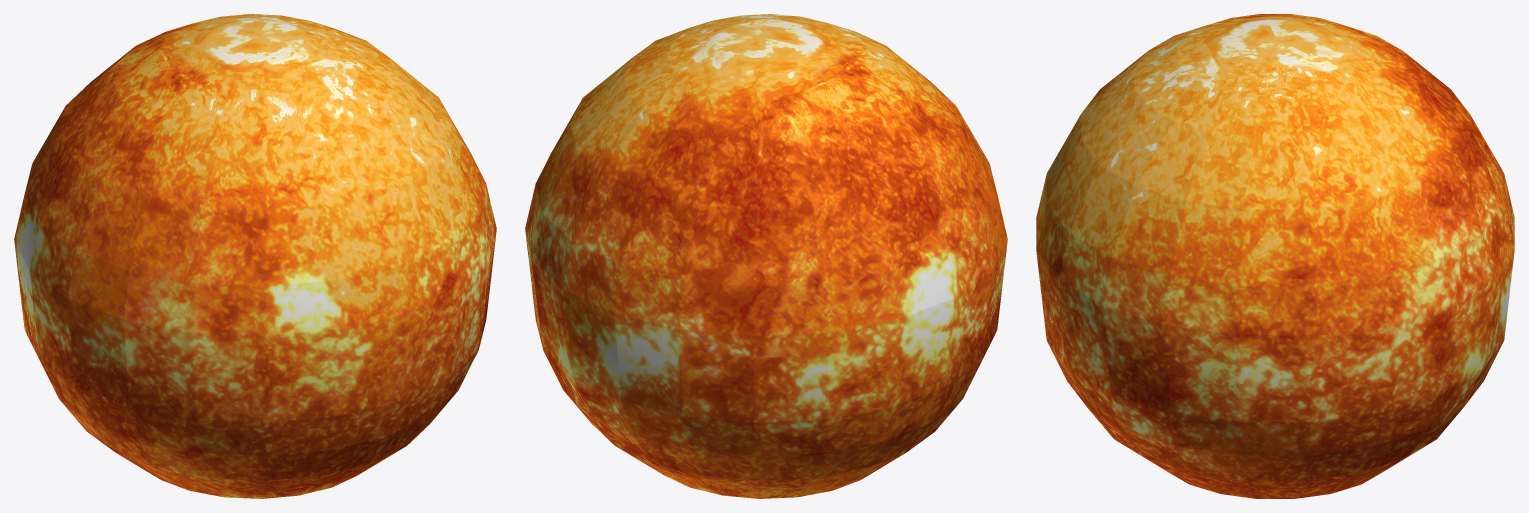
The model's file is sun.fbx.
3 views of the same model, side by side, from view 1: azimuth 30°, elevation 25°; view 2: azimuth 150°, elevation 25°; view 3: azimuth 270°, elevation 25° (orthographic).
Parts seen in each view (by area): view 1: sun1; view 2: sun1; view 3: sun1.
Part boxes in pixels (box(x1,y1,x2,y2)): sun1: box(14, 14, 496, 498); sun1: box(525, 14, 1007, 498); sun1: box(1036, 14, 1514, 498).
Bounding box in the file's own units: 10.48 × 10.62 × 10.48.
Materials: 1 (1 with a texture image).
